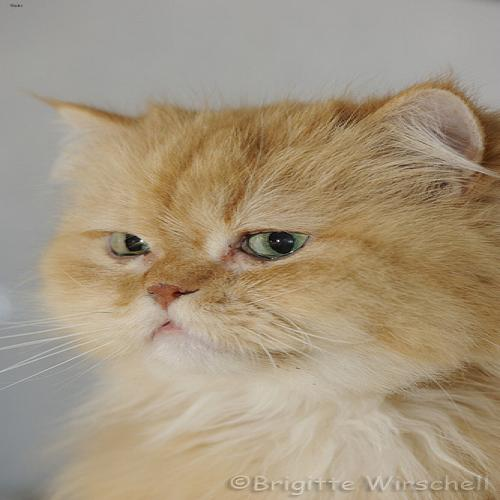persian: (17, 83, 494, 384)
